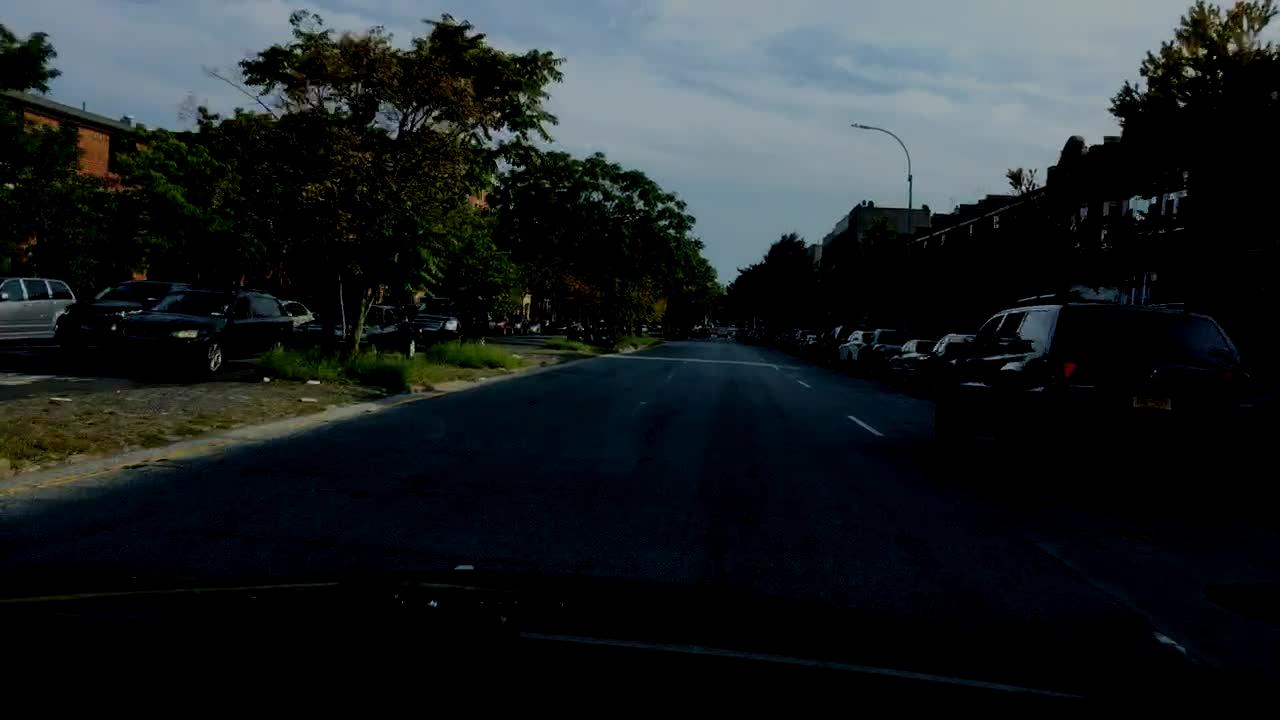Mitsubishi: (1145, 368, 1164, 383)
